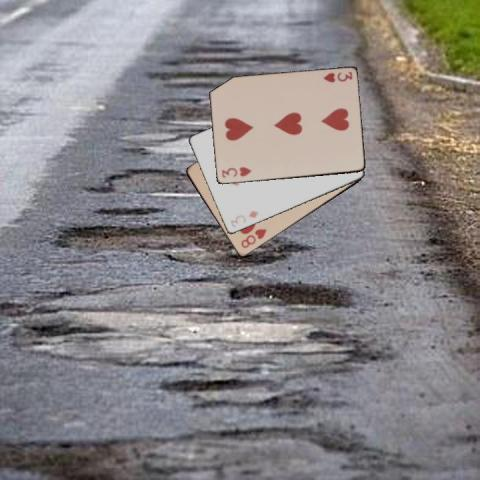3d: (228, 208, 260, 229)
3h: (218, 164, 252, 179), (321, 69, 353, 84)
8h: (238, 226, 268, 250)
